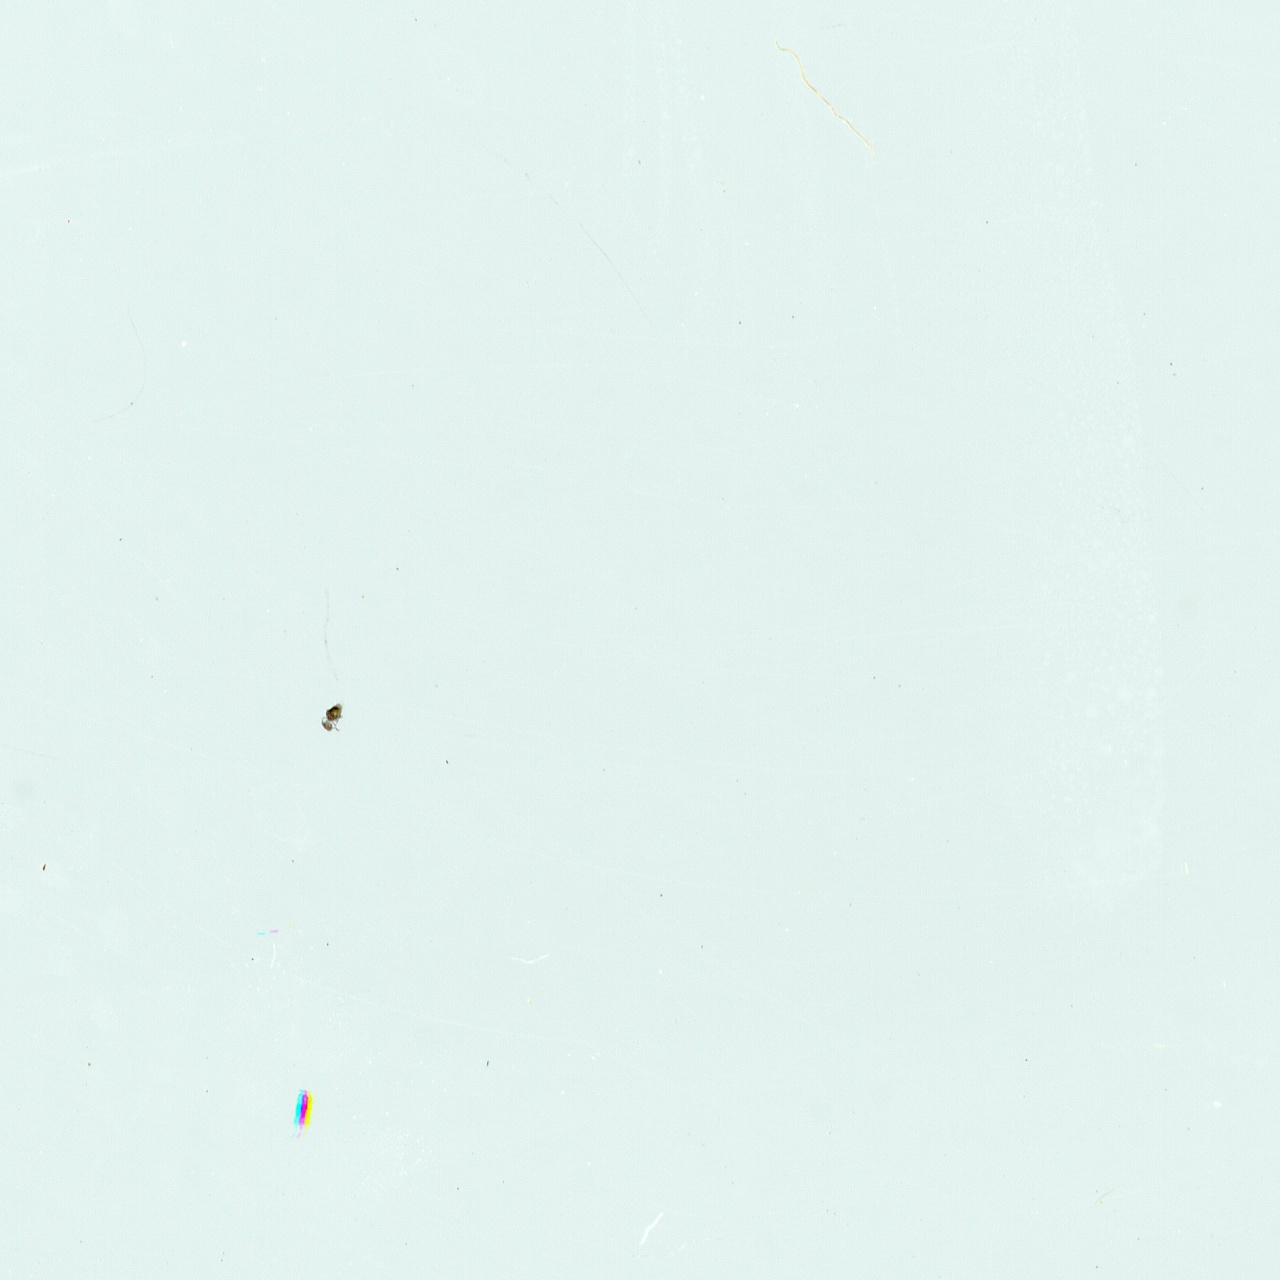arthropod: (284, 1081, 322, 1148), (320, 697, 347, 735)
